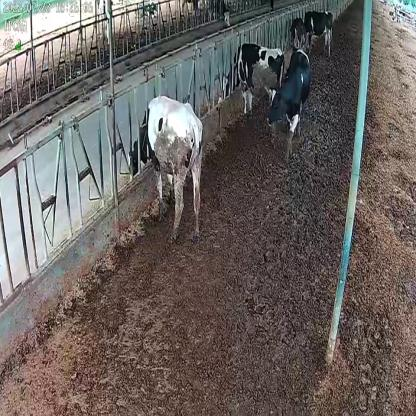cow: (128, 93, 203, 241), (219, 42, 286, 121), (266, 46, 312, 160), (303, 9, 334, 56)
